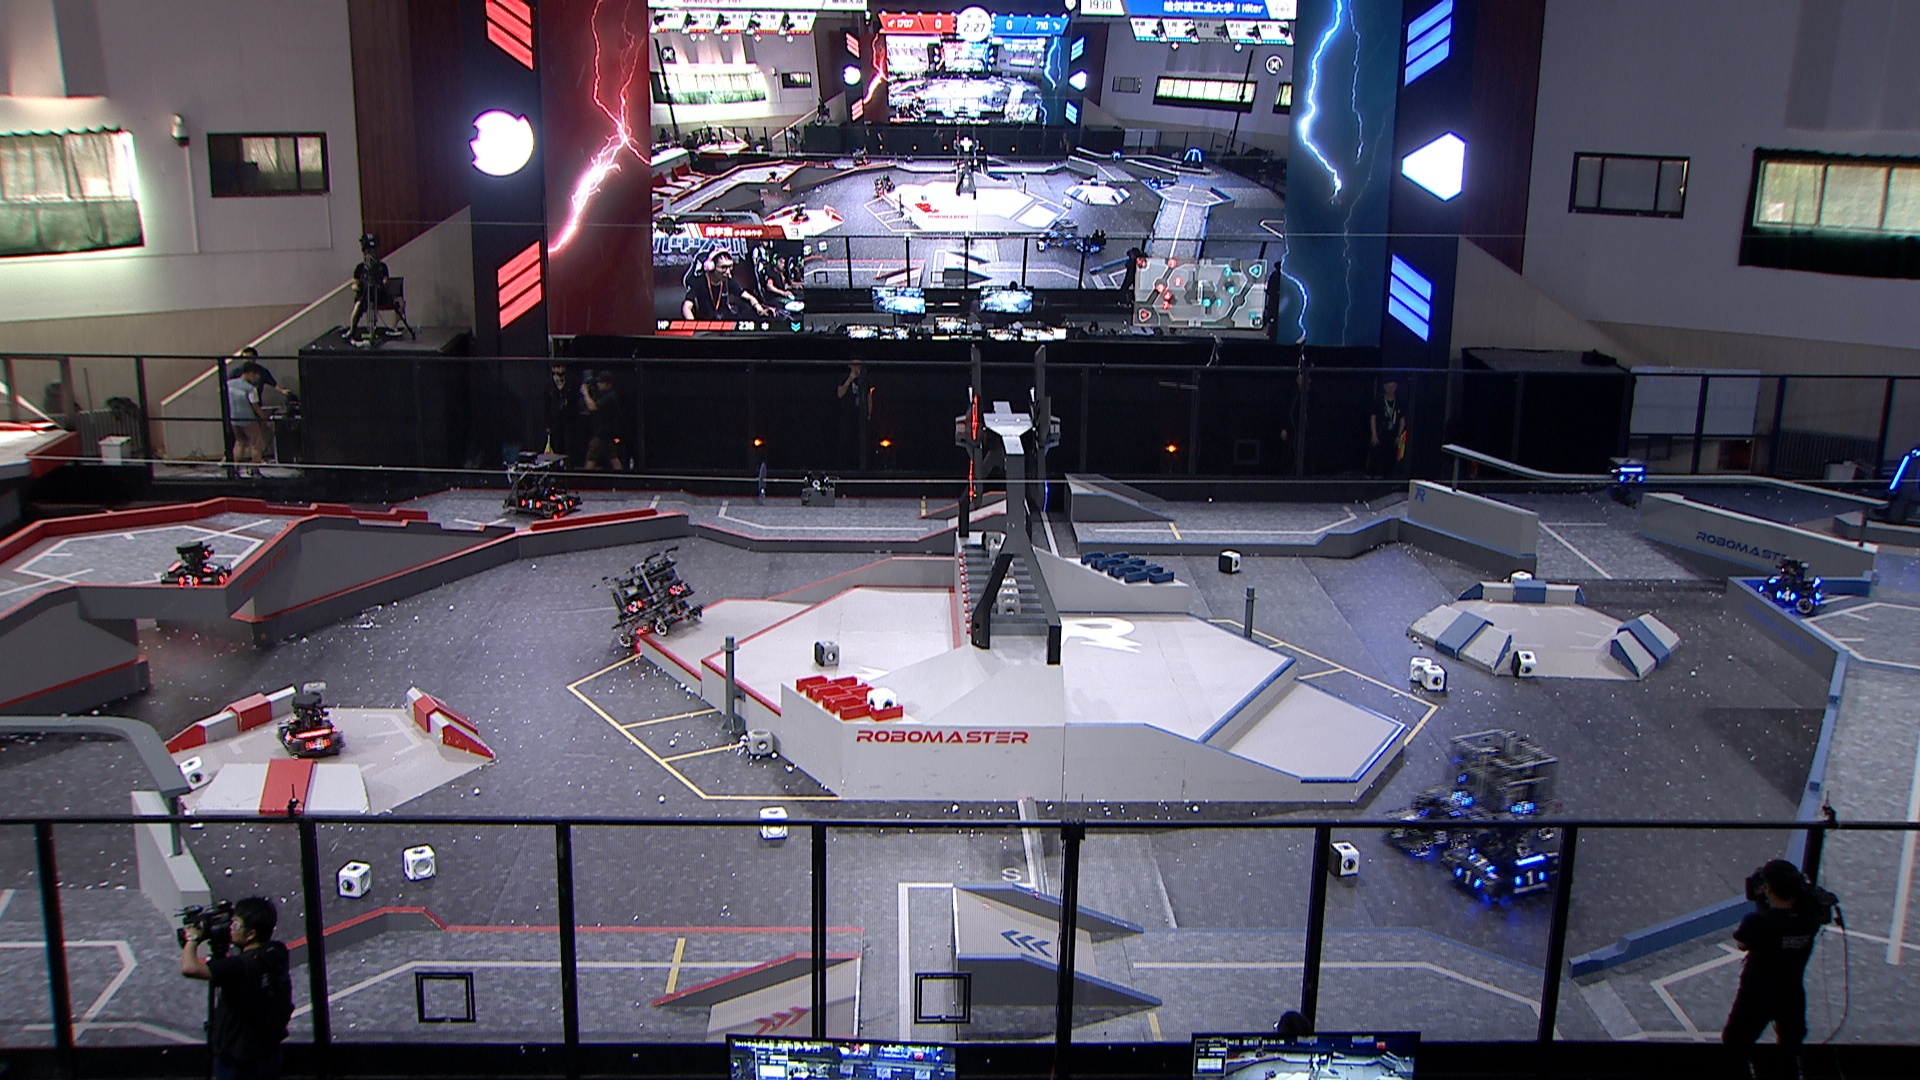armor: (1888, 455, 1911, 493), (1455, 865, 1485, 889), (1466, 851, 1495, 874), (1427, 829, 1457, 849), (1515, 869, 1547, 887), (1449, 790, 1474, 808), (1513, 798, 1538, 816), (1389, 823, 1411, 841), (1619, 471, 1644, 485), (306, 737, 330, 752), (1774, 589, 1797, 604), (216, 567, 235, 585), (1399, 808, 1420, 823), (626, 600, 645, 616), (520, 498, 543, 510), (202, 562, 222, 575), (177, 575, 200, 585), (667, 585, 684, 599), (549, 491, 567, 502), (1768, 572, 1784, 585), (556, 498, 574, 510), (281, 731, 294, 744)
base: (1869, 450, 1920, 529)
car: (1439, 728, 1564, 847), (1447, 818, 1571, 905), (603, 545, 703, 647), (1377, 789, 1476, 861), (500, 448, 583, 522), (276, 688, 347, 764), (161, 541, 237, 597), (1755, 556, 1825, 616)
ignore: (1076, 228, 1110, 258), (1044, 222, 1079, 249), (1178, 146, 1207, 169), (874, 171, 895, 196), (852, 148, 873, 166), (793, 204, 808, 225), (766, 167, 783, 186), (711, 206, 727, 225), (1147, 174, 1167, 189), (1110, 150, 1122, 164)
watcher: (1607, 458, 1650, 509)
